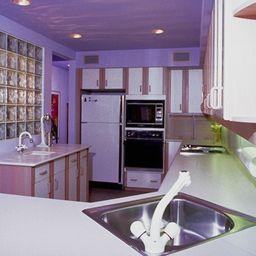Lavaplatos: (86, 164, 249, 254), (17, 130, 57, 161)
